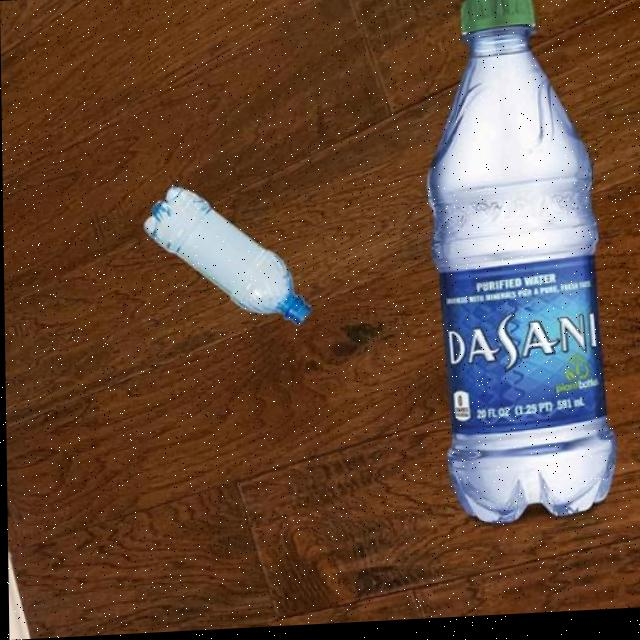bottle: (421, 0, 616, 533), (140, 181, 311, 337)
